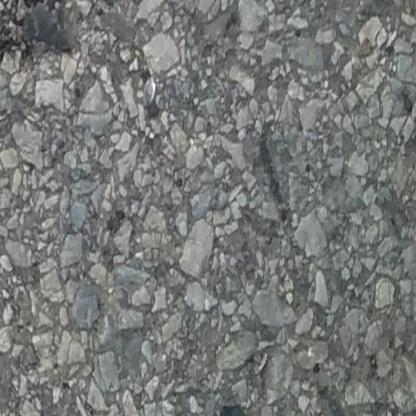Cracks: (0, 0, 78, 63)
